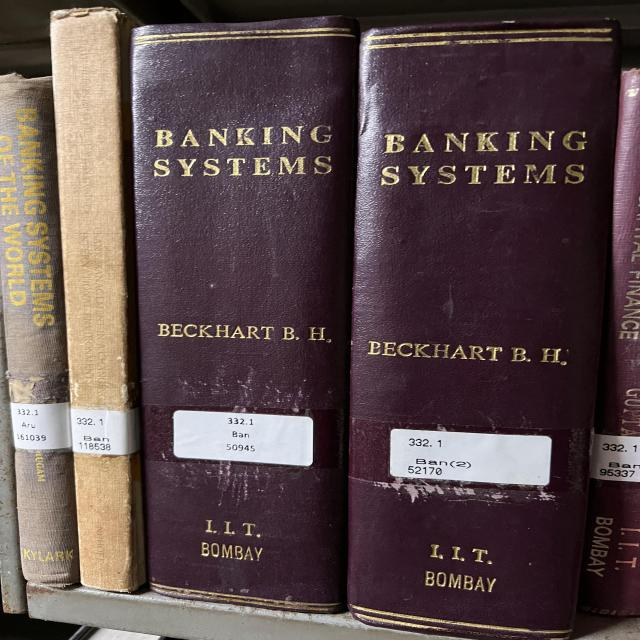Book: (348, 20, 618, 640), (132, 16, 358, 612), (50, 8, 145, 592), (0, 75, 80, 586), (578, 70, 640, 616)
Label: (390, 429, 552, 485), (173, 410, 313, 466), (70, 408, 140, 455), (10, 402, 72, 450), (590, 434, 640, 482)
